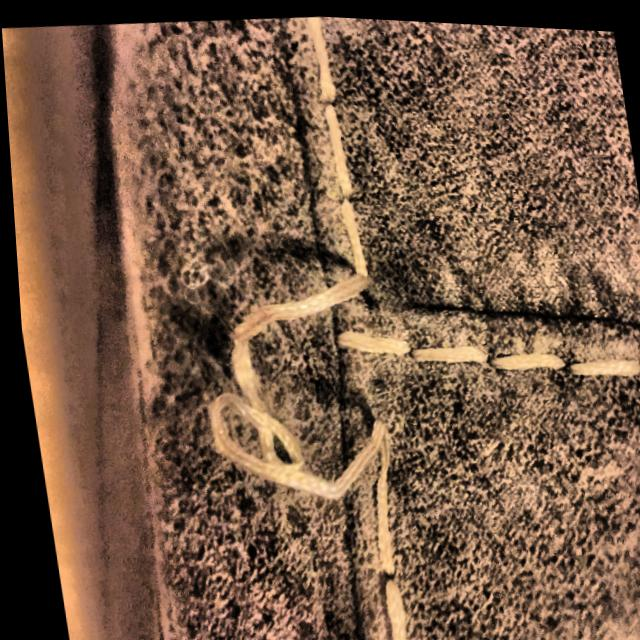Stitch: (126, 150, 481, 553)
